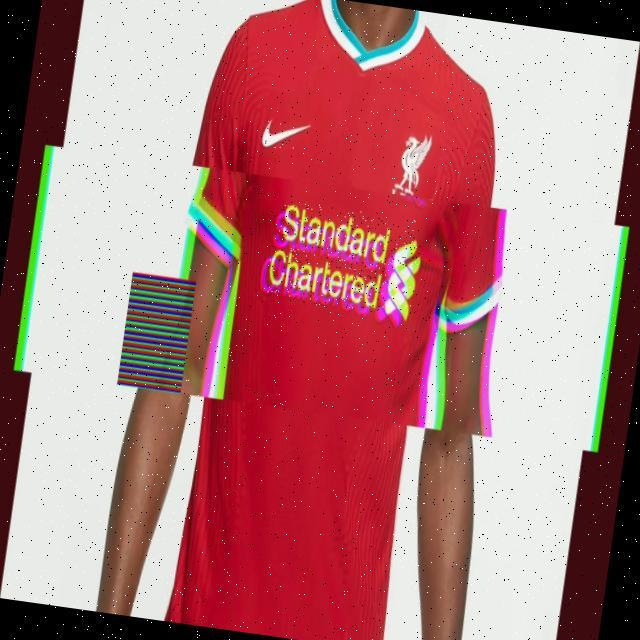Nike: (263, 119, 312, 153)
Standard Chartered: (265, 199, 425, 319)
